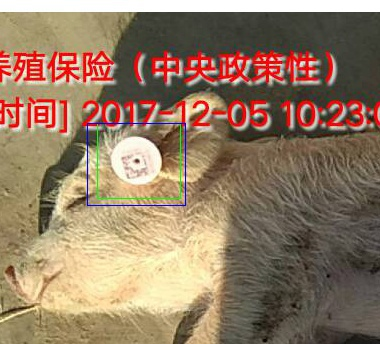text: (97, 123, 180, 198)
